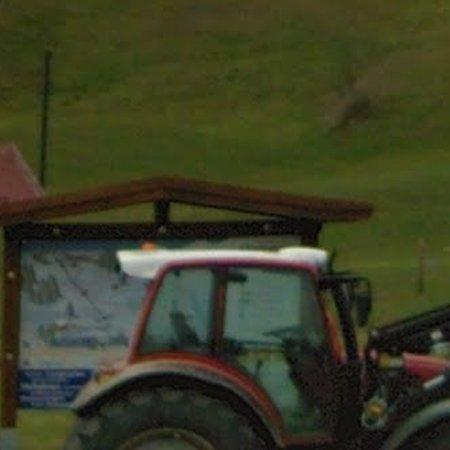tractors: (68, 250, 450, 450)
